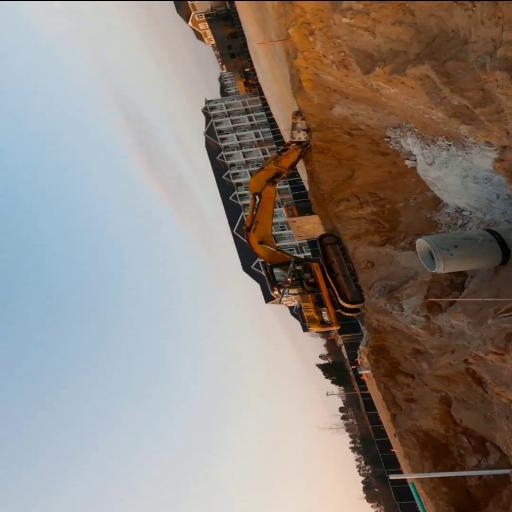uav: (266, 253, 302, 305)
